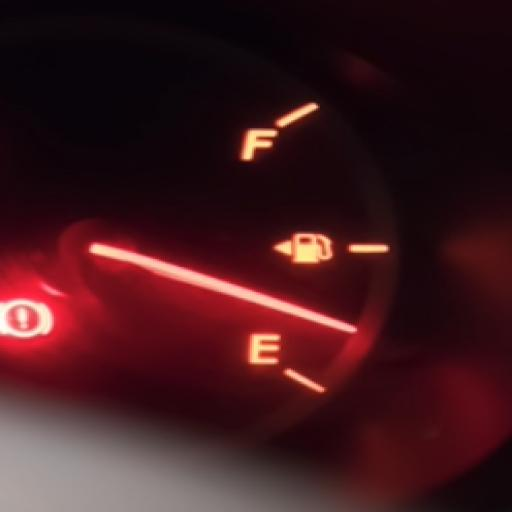empty: (244, 330, 278, 371)
fuel_icon: (272, 227, 334, 273)
full: (230, 124, 280, 169)
needle_center: (76, 222, 143, 281)
needle_tip: (52, 77, 418, 404), (296, 304, 362, 344)
